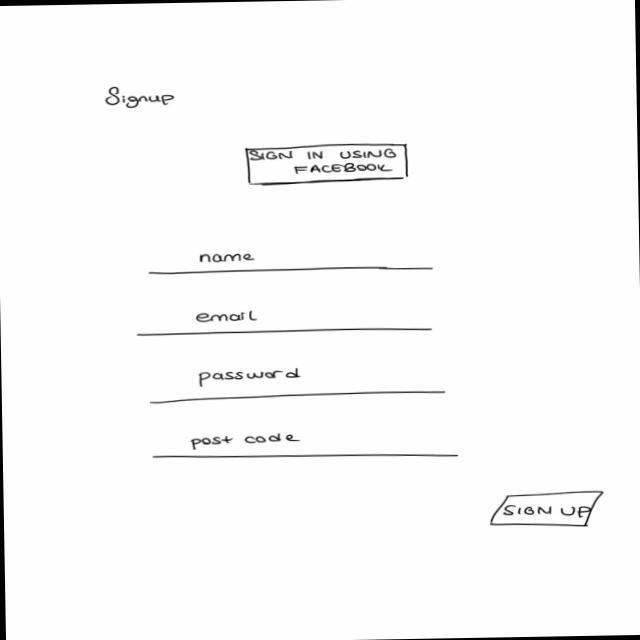button: (245, 142, 413, 189), (486, 489, 607, 531)
input: (147, 361, 448, 406), (151, 429, 461, 464), (135, 306, 434, 339), (147, 247, 436, 277)
label: (103, 86, 178, 111)
